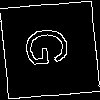G: (24, 25, 79, 68)
